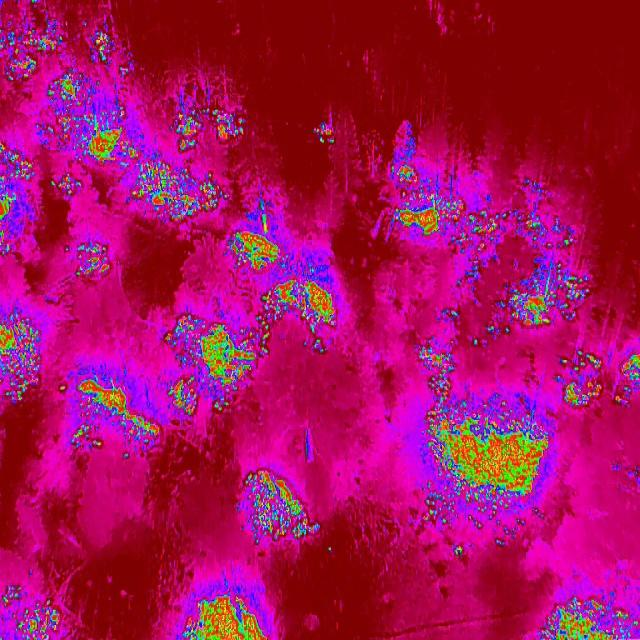fire: (37, 77, 243, 219), (412, 392, 554, 532), (499, 184, 594, 344), (224, 224, 344, 342), (392, 148, 498, 254), (159, 320, 264, 414), (67, 365, 164, 457), (0, 0, 71, 94), (234, 470, 324, 540), (180, 576, 271, 640), (532, 590, 640, 640), (559, 347, 640, 412), (0, 306, 46, 406), (0, 138, 37, 262), (0, 586, 63, 640), (414, 340, 462, 390), (77, 14, 114, 71), (70, 240, 113, 280), (313, 118, 337, 147)
